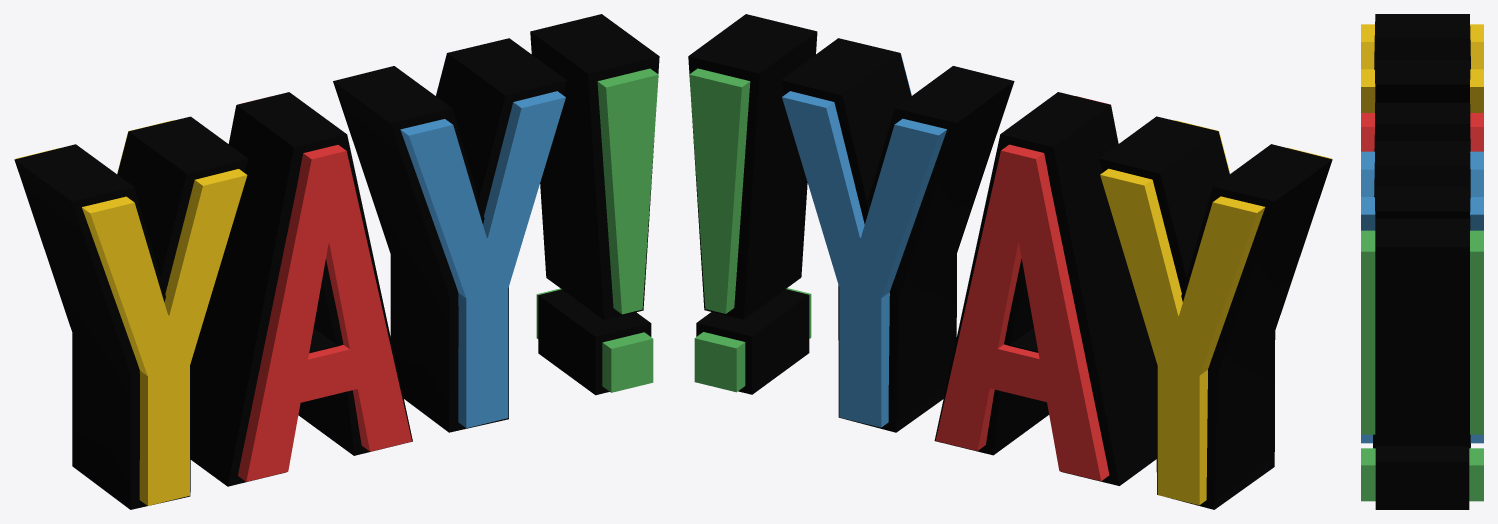
Rendered from yay_type.fbx.
3 views of the same model, side by side, from view 1: azimuth 30°, elevation 25°; view 2: azimuth 150°, elevation 25°; view 3: azimuth 270°, elevation 25° (orthographic). The views are drawn at different scales.
Visible parts, largest first — view 1: 3D_Text; view 2: 3D_Text; view 3: 3D_Text.
Part boxes in pixels (x1,y1,x2,y2): 3D_Text: (14,14,659,509); 3D_Text: (688,14,1332,509); 3D_Text: (1361,14,1483,509).
Bounding box in the file's own units: 286 × 151 × 62.93.
